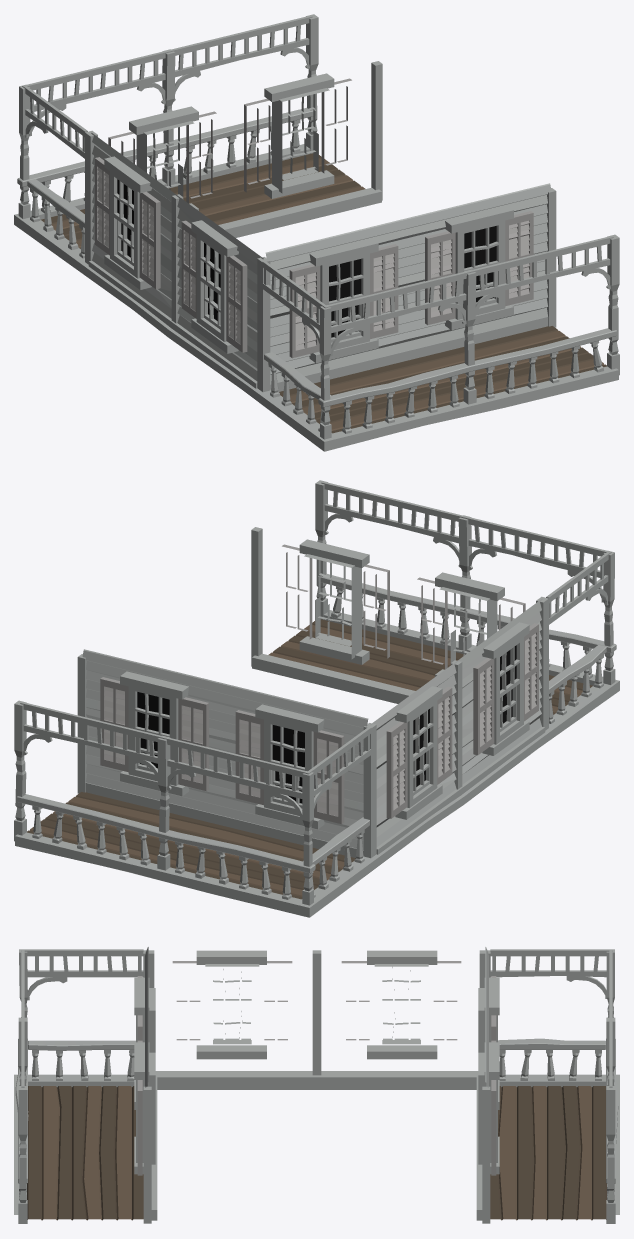
The model's file is SM_Bld_Mansion_End_02.glb.
3 views of the same model, one above another, from view 1: azimuth 30°, elevation 25°; view 2: azimuth 150°, elevation 25°; view 3: azimuth 270°, elevation 25° (orthographic). The views are drawn at different scales.
Visible parts, largest first — view 1: SM_Bld_Mansion_End_02; view 2: SM_Bld_Mansion_End_02; view 3: SM_Bld_Mansion_End_02.
Boxes of the visible parts, x1,y1,x2,y2 form: SM_Bld_Mansion_End_02: (14,14,619,451); SM_Bld_Mansion_End_02: (14,480,619,917); SM_Bld_Mansion_End_02: (14,947,619,1223).
Bounding box in the file's own units: 0.0627 × 0.029 × 0.1118.
